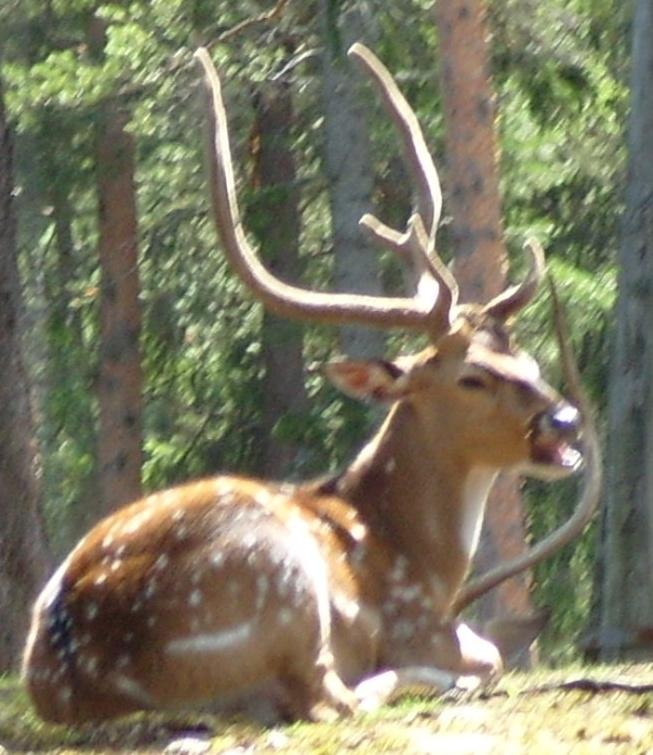Deer: (23, 44, 580, 722)
